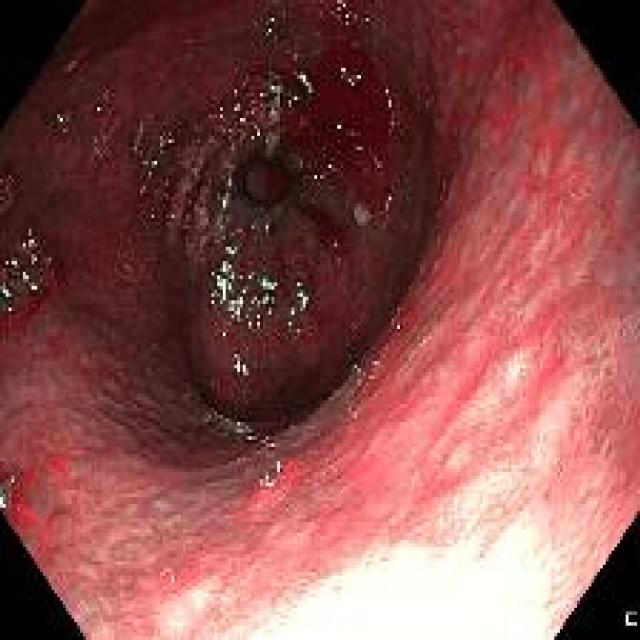contrast: (1, 2, 441, 454)
saturation: (458, 355, 638, 638), (240, 506, 580, 639), (145, 563, 238, 635)
specularity: (207, 245, 280, 338), (5, 258, 42, 296), (288, 276, 311, 329), (18, 230, 45, 265), (328, 0, 358, 27), (292, 68, 317, 96), (381, 78, 395, 126), (338, 64, 362, 89), (229, 351, 250, 377), (2, 281, 16, 316), (0, 490, 17, 517), (262, 16, 280, 38), (259, 471, 274, 490), (271, 457, 285, 477), (227, 98, 242, 114), (371, 156, 385, 173), (52, 111, 66, 126), (260, 221, 274, 236), (308, 169, 321, 185), (216, 191, 228, 208), (321, 159, 335, 173), (148, 154, 158, 172), (235, 114, 247, 129), (371, 360, 383, 372), (393, 321, 404, 334), (333, 121, 341, 134)
